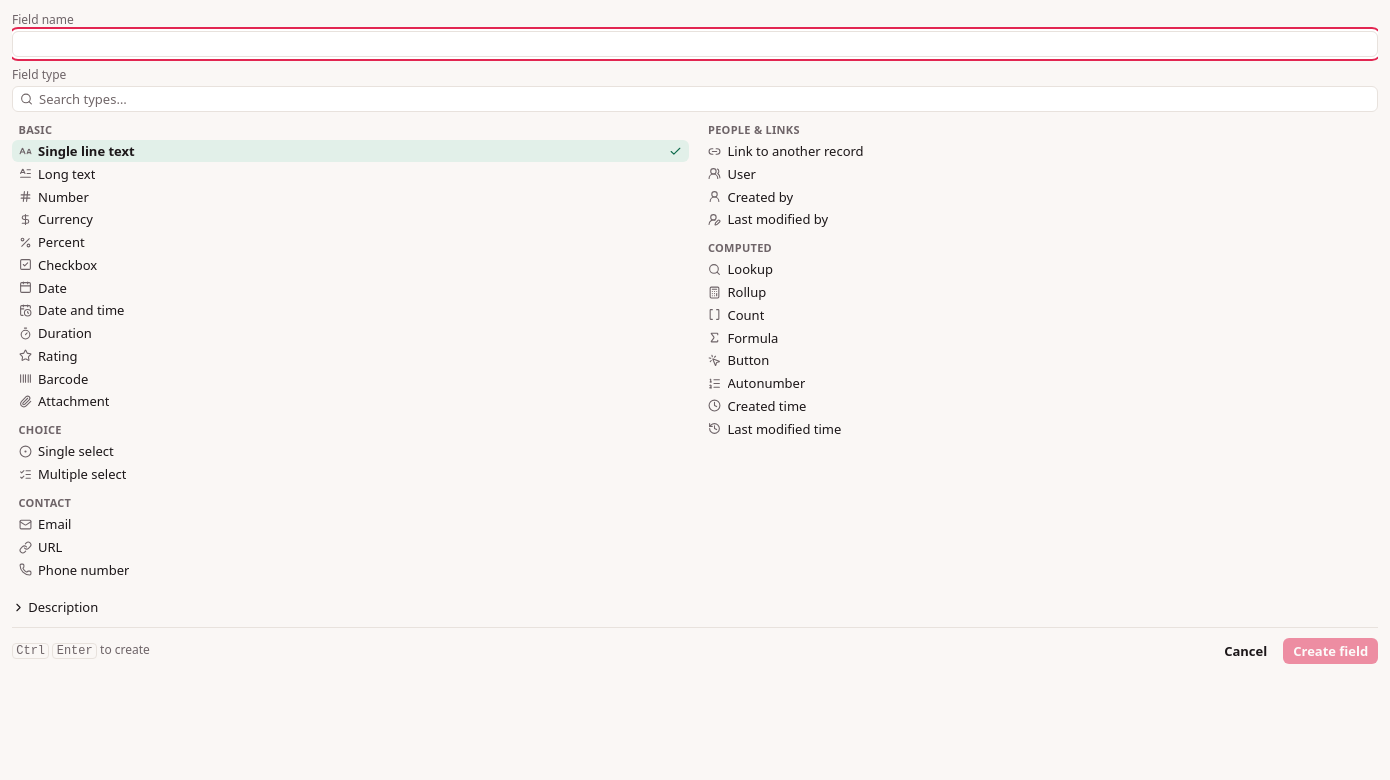
FieldEditor: lookup, rollup and count (#82) › explains a table without link fields
Type "Count" into the dropdown named "Search field types". click: point(695, 99)
box: [12, 86, 1378, 112]
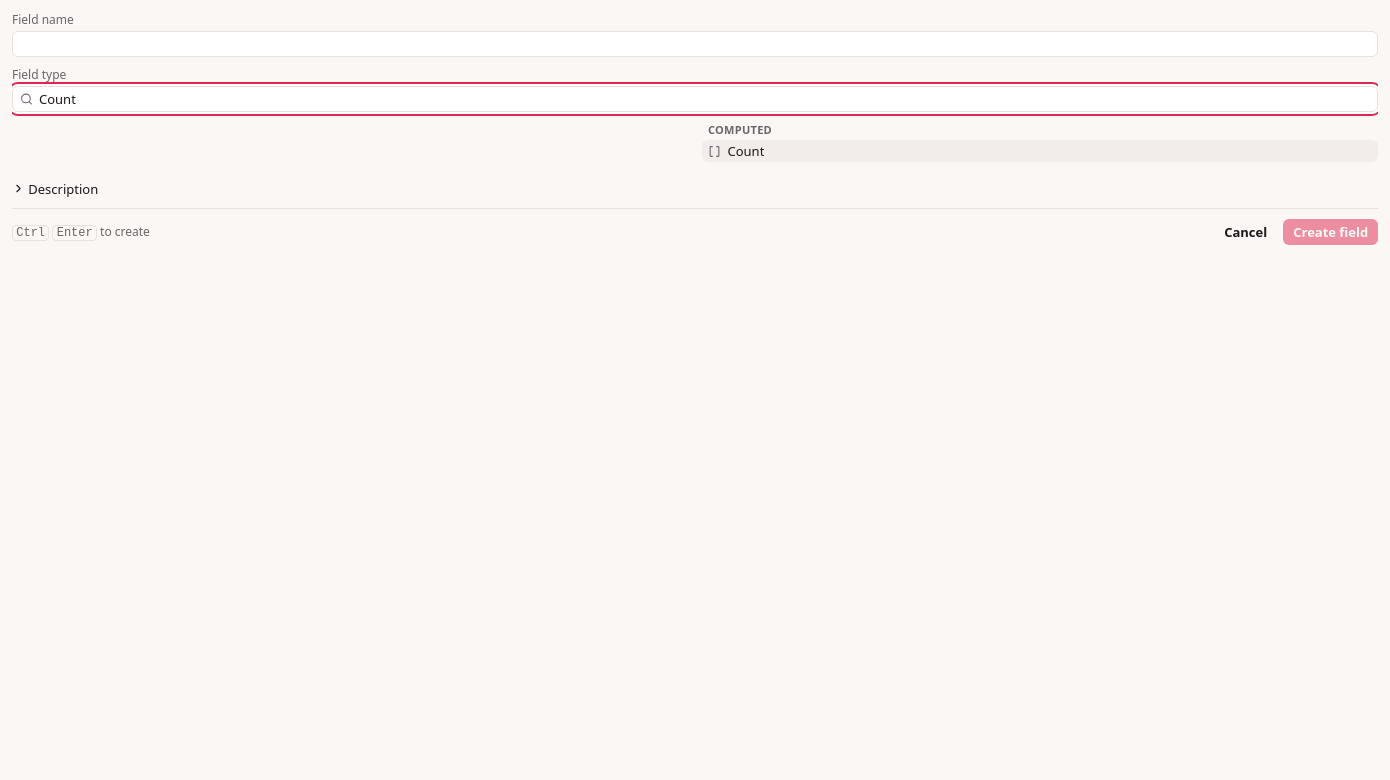
Click the option "Count". click: point(746, 151)
box: [702, 140, 1378, 162]
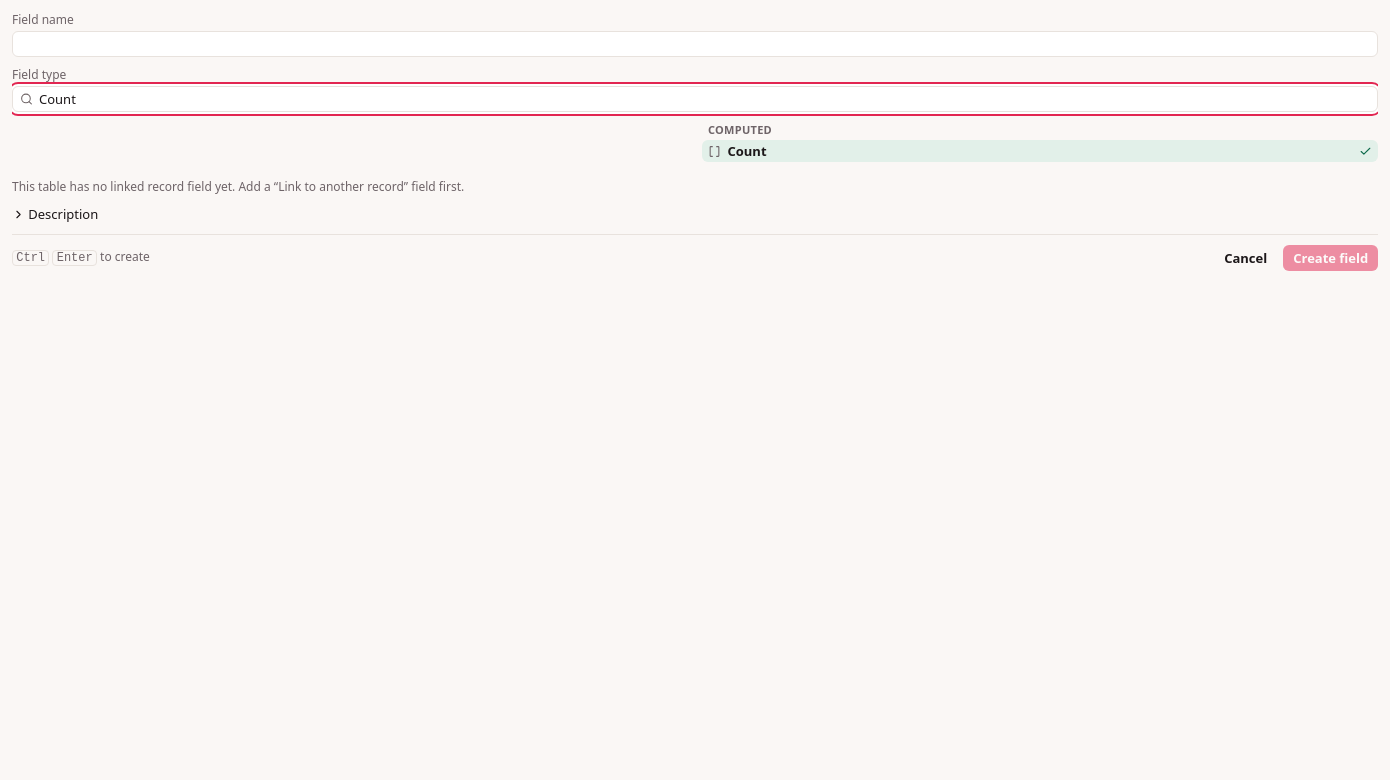
Now the text "no linked record field yet" is shown, box [12, 178, 464, 195]
